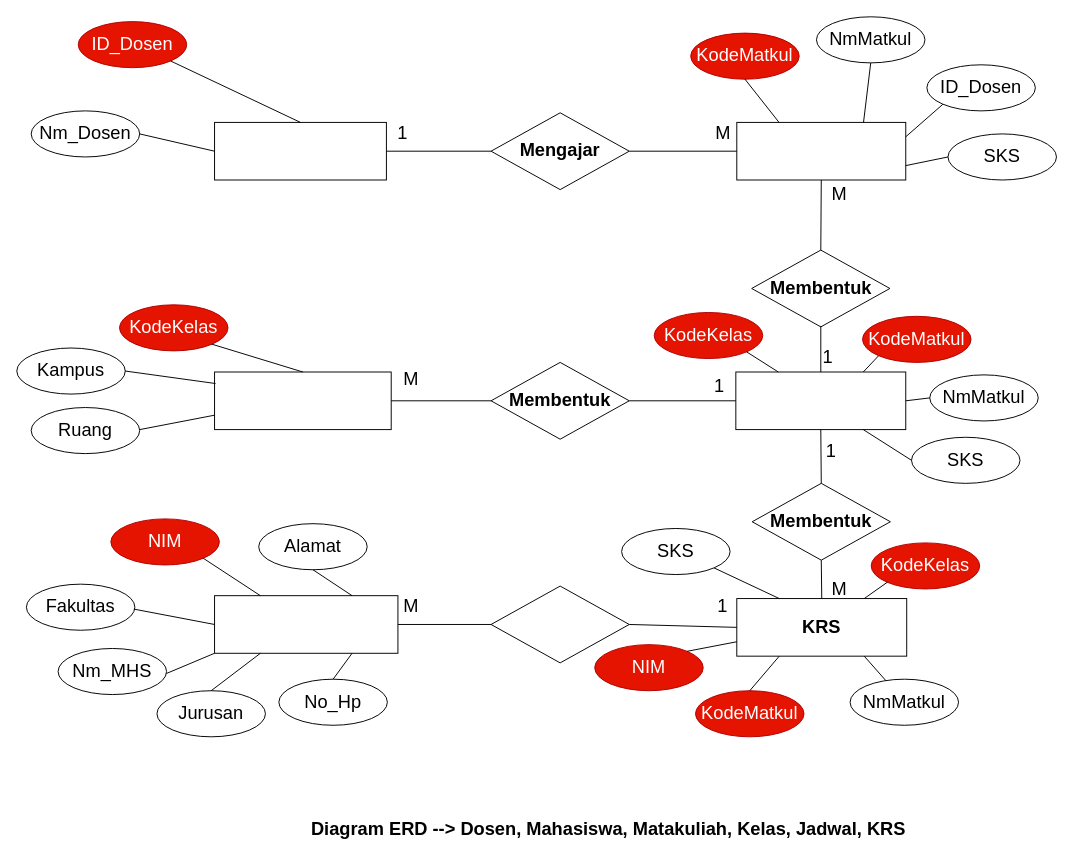
Image size: 1086x861. Some labels were removed from this diagram. Here are the shapes that lost their labels. From the top down, the centre of each, then its label:
At [300,150]: "Dosen".
At [821,150]: "Matakuliah".
At [302,400]: "Kelas".
At [820,400]: "Jadwal".
At [306,624]: "Mahasiswa".
At [559,624]: "Mengambil".
